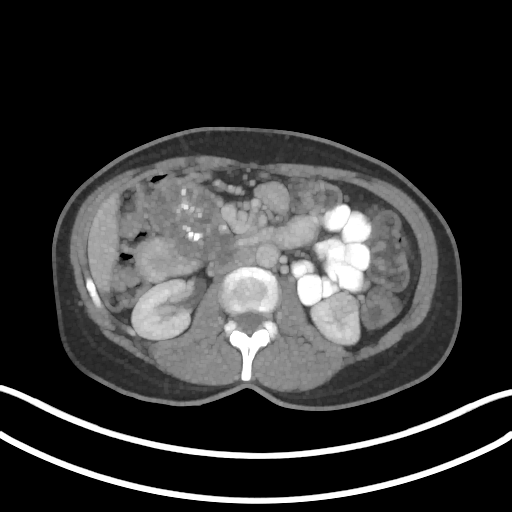Lesion: (327, 294, 360, 320)
